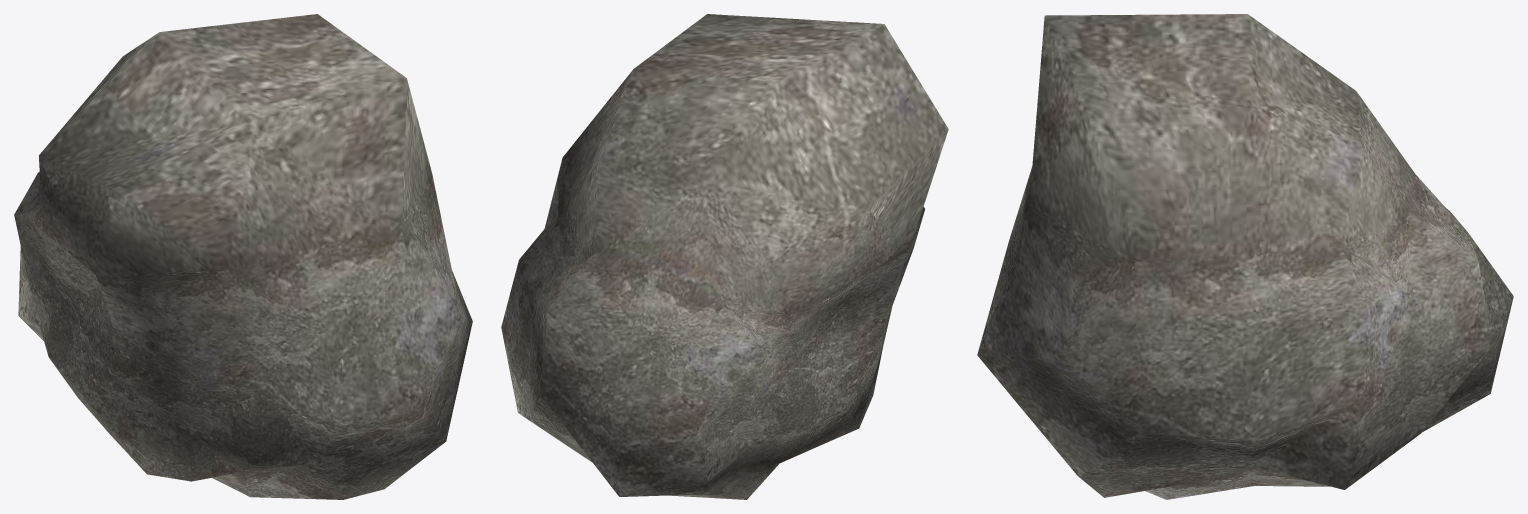
File: stone_05.fbx
The picture shows the model from 3 angles, left to right: view 1: azimuth 30°, elevation 25°; view 2: azimuth 150°, elevation 25°; view 3: azimuth 270°, elevation 25°; orthographic projection. The views are drawn at different scales.
Visible parts, largest first — view 1: pCube7; view 2: pCube7; view 3: pCube7.
Boxes of the visible parts, box(x1,y1,x2,y2) form: pCube7: box(14, 14, 472, 499); pCube7: box(501, 14, 948, 499); pCube7: box(977, 14, 1513, 499).
Size of the model in its own units: 3.09 by 3.34 by 3.73.
